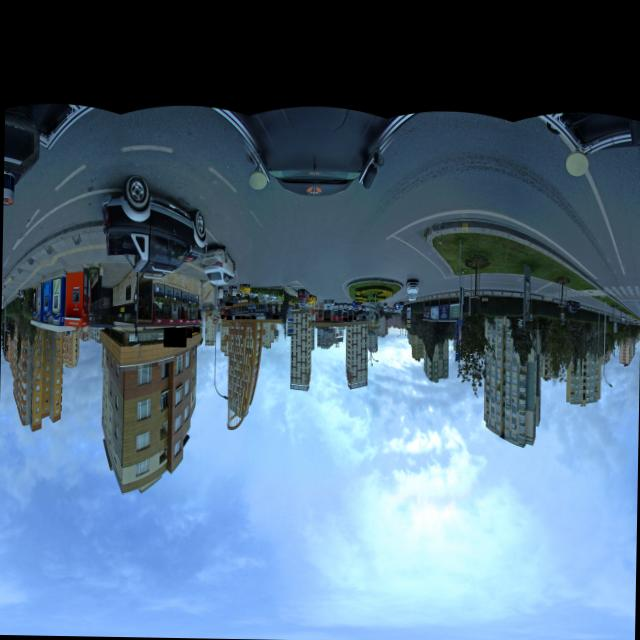SignStore: (162, 326, 185, 346), (185, 327, 191, 336), (191, 325, 198, 331), (225, 314, 231, 318), (233, 314, 239, 318), (224, 301, 231, 304), (322, 316, 329, 319), (272, 314, 277, 318), (239, 314, 244, 318), (244, 315, 250, 318), (219, 313, 223, 317), (250, 315, 255, 318), (347, 315, 351, 318), (342, 316, 346, 319), (352, 315, 355, 319), (361, 314, 364, 317)
